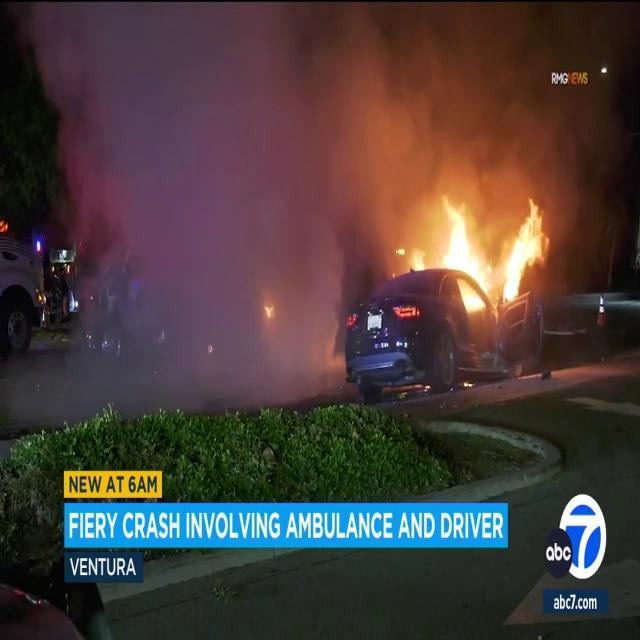Fire: (423, 185, 550, 310)
Smoke: (54, 2, 632, 228), (309, 2, 632, 214)
